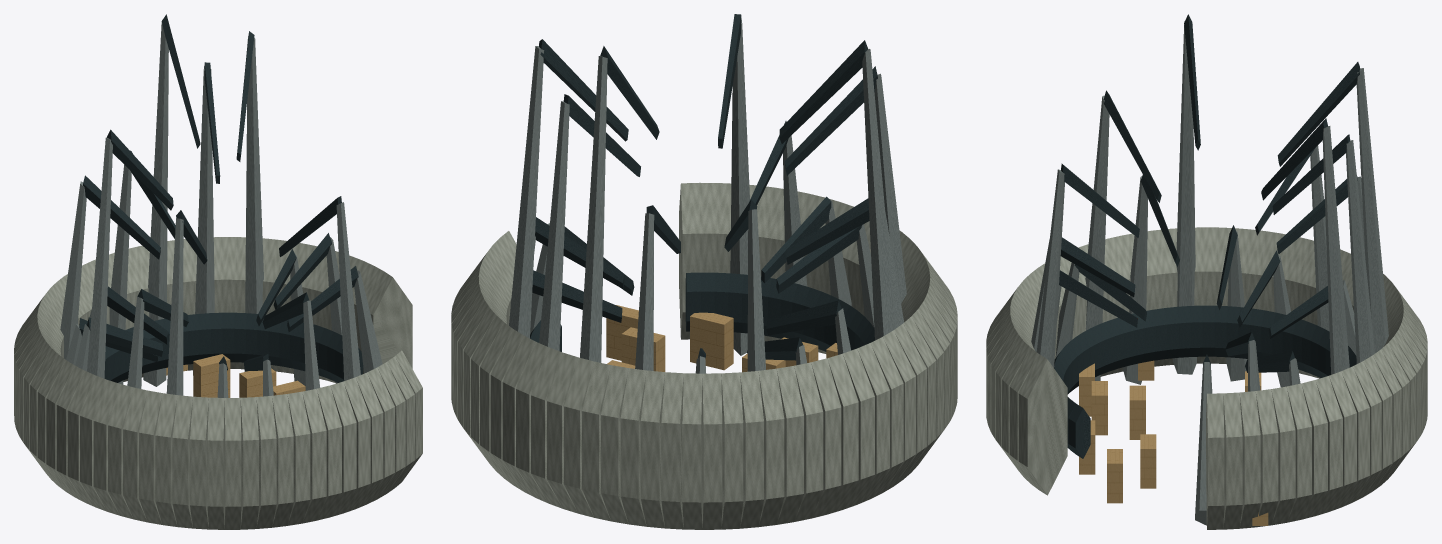
The model's file is city_rib_canyon_01.fbx.
3 views of the same model, side by side, from view 1: azimuth 30°, elevation 25°; view 2: azimuth 150°, elevation 25°; view 3: azimuth 270°, elevation 25° (orthographic). The views are drawn at different scales.
Parts seen in each view (by area): view 1: city_rib_canyon_01_LOD0; view 2: city_rib_canyon_01_LOD0; view 3: city_rib_canyon_01_LOD0.
Boxes of the visible parts, box(x1,y1,x2,y2) form: city_rib_canyon_01_LOD0: box(14, 14, 422, 529); city_rib_canyon_01_LOD0: box(451, 14, 957, 529); city_rib_canyon_01_LOD0: box(986, 14, 1427, 529).
Size of what is drawn, in the model's own units: 1 by 1 by 1.
